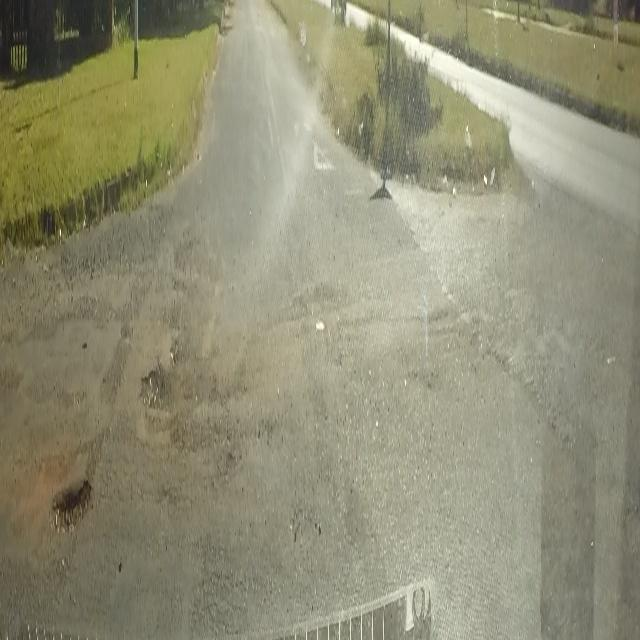pothole: (46, 470, 98, 542), (136, 361, 172, 422)
